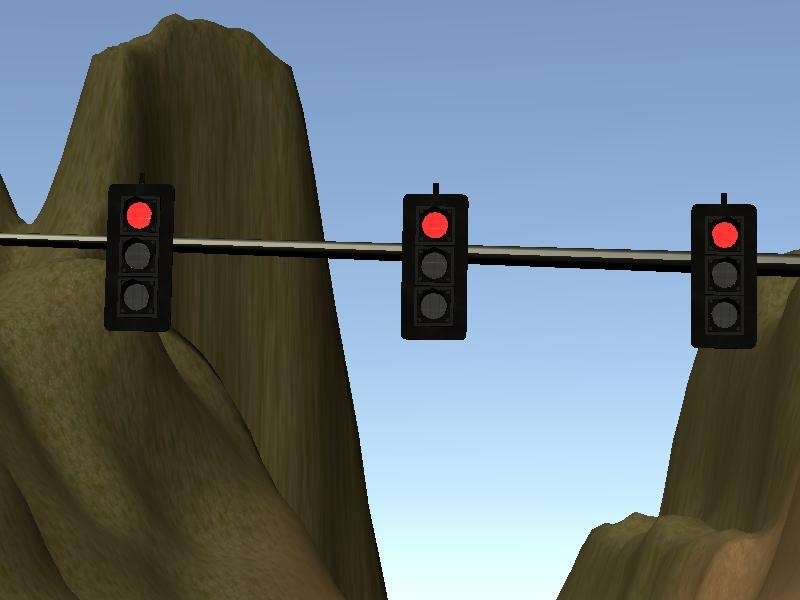red: (107, 184, 171, 333), (403, 193, 466, 342), (691, 205, 754, 348)
